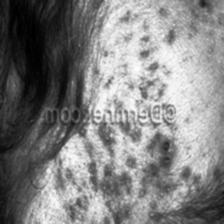Non-Cancerous Skin Condition: (16, 132, 224, 224), (96, 0, 224, 93)
